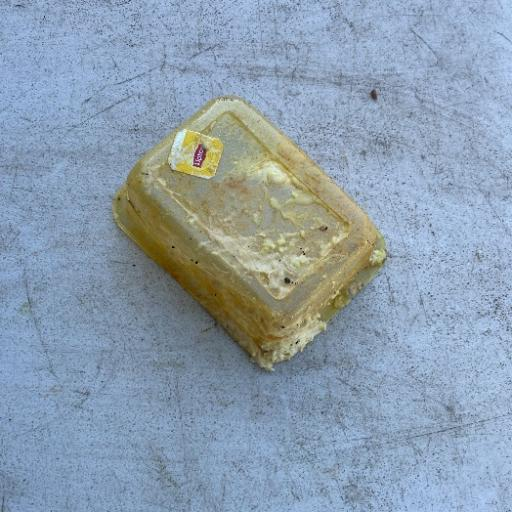Plastic: (109, 93, 389, 373)
